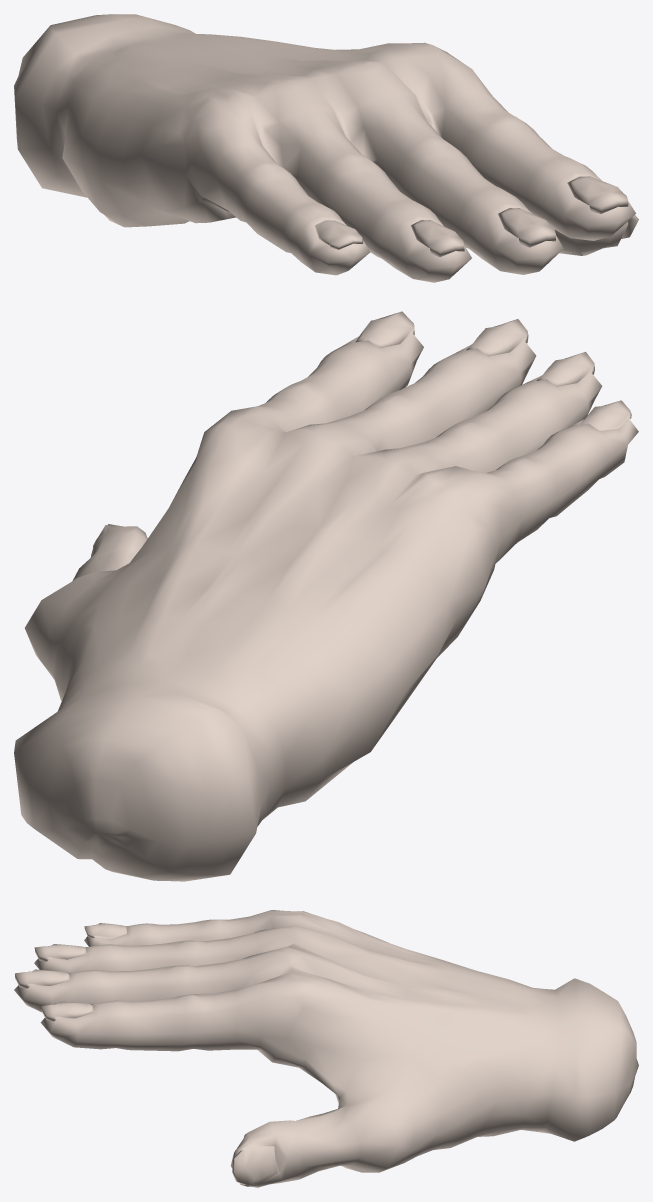
The model's file is Hand.R.dae.
3 views of the same model, one above another, from view 1: azimuth 30°, elevation 25°; view 2: azimuth 150°, elevation 25°; view 3: azimuth 270°, elevation 25° (orthographic). The views are drawn at different scales.
Visible parts, largest first — view 1: Hand_R; view 2: Hand_R; view 3: Hand_R.
Boxes of the visible parts, box(x1,y1,x2,y2) form: Hand_R: box(14, 14, 638, 282); Hand_R: box(14, 311, 638, 881); Hand_R: box(14, 910, 638, 1187).
Bounding box in the file's own units: 0.1275 × 0.2267 × 0.0748.
